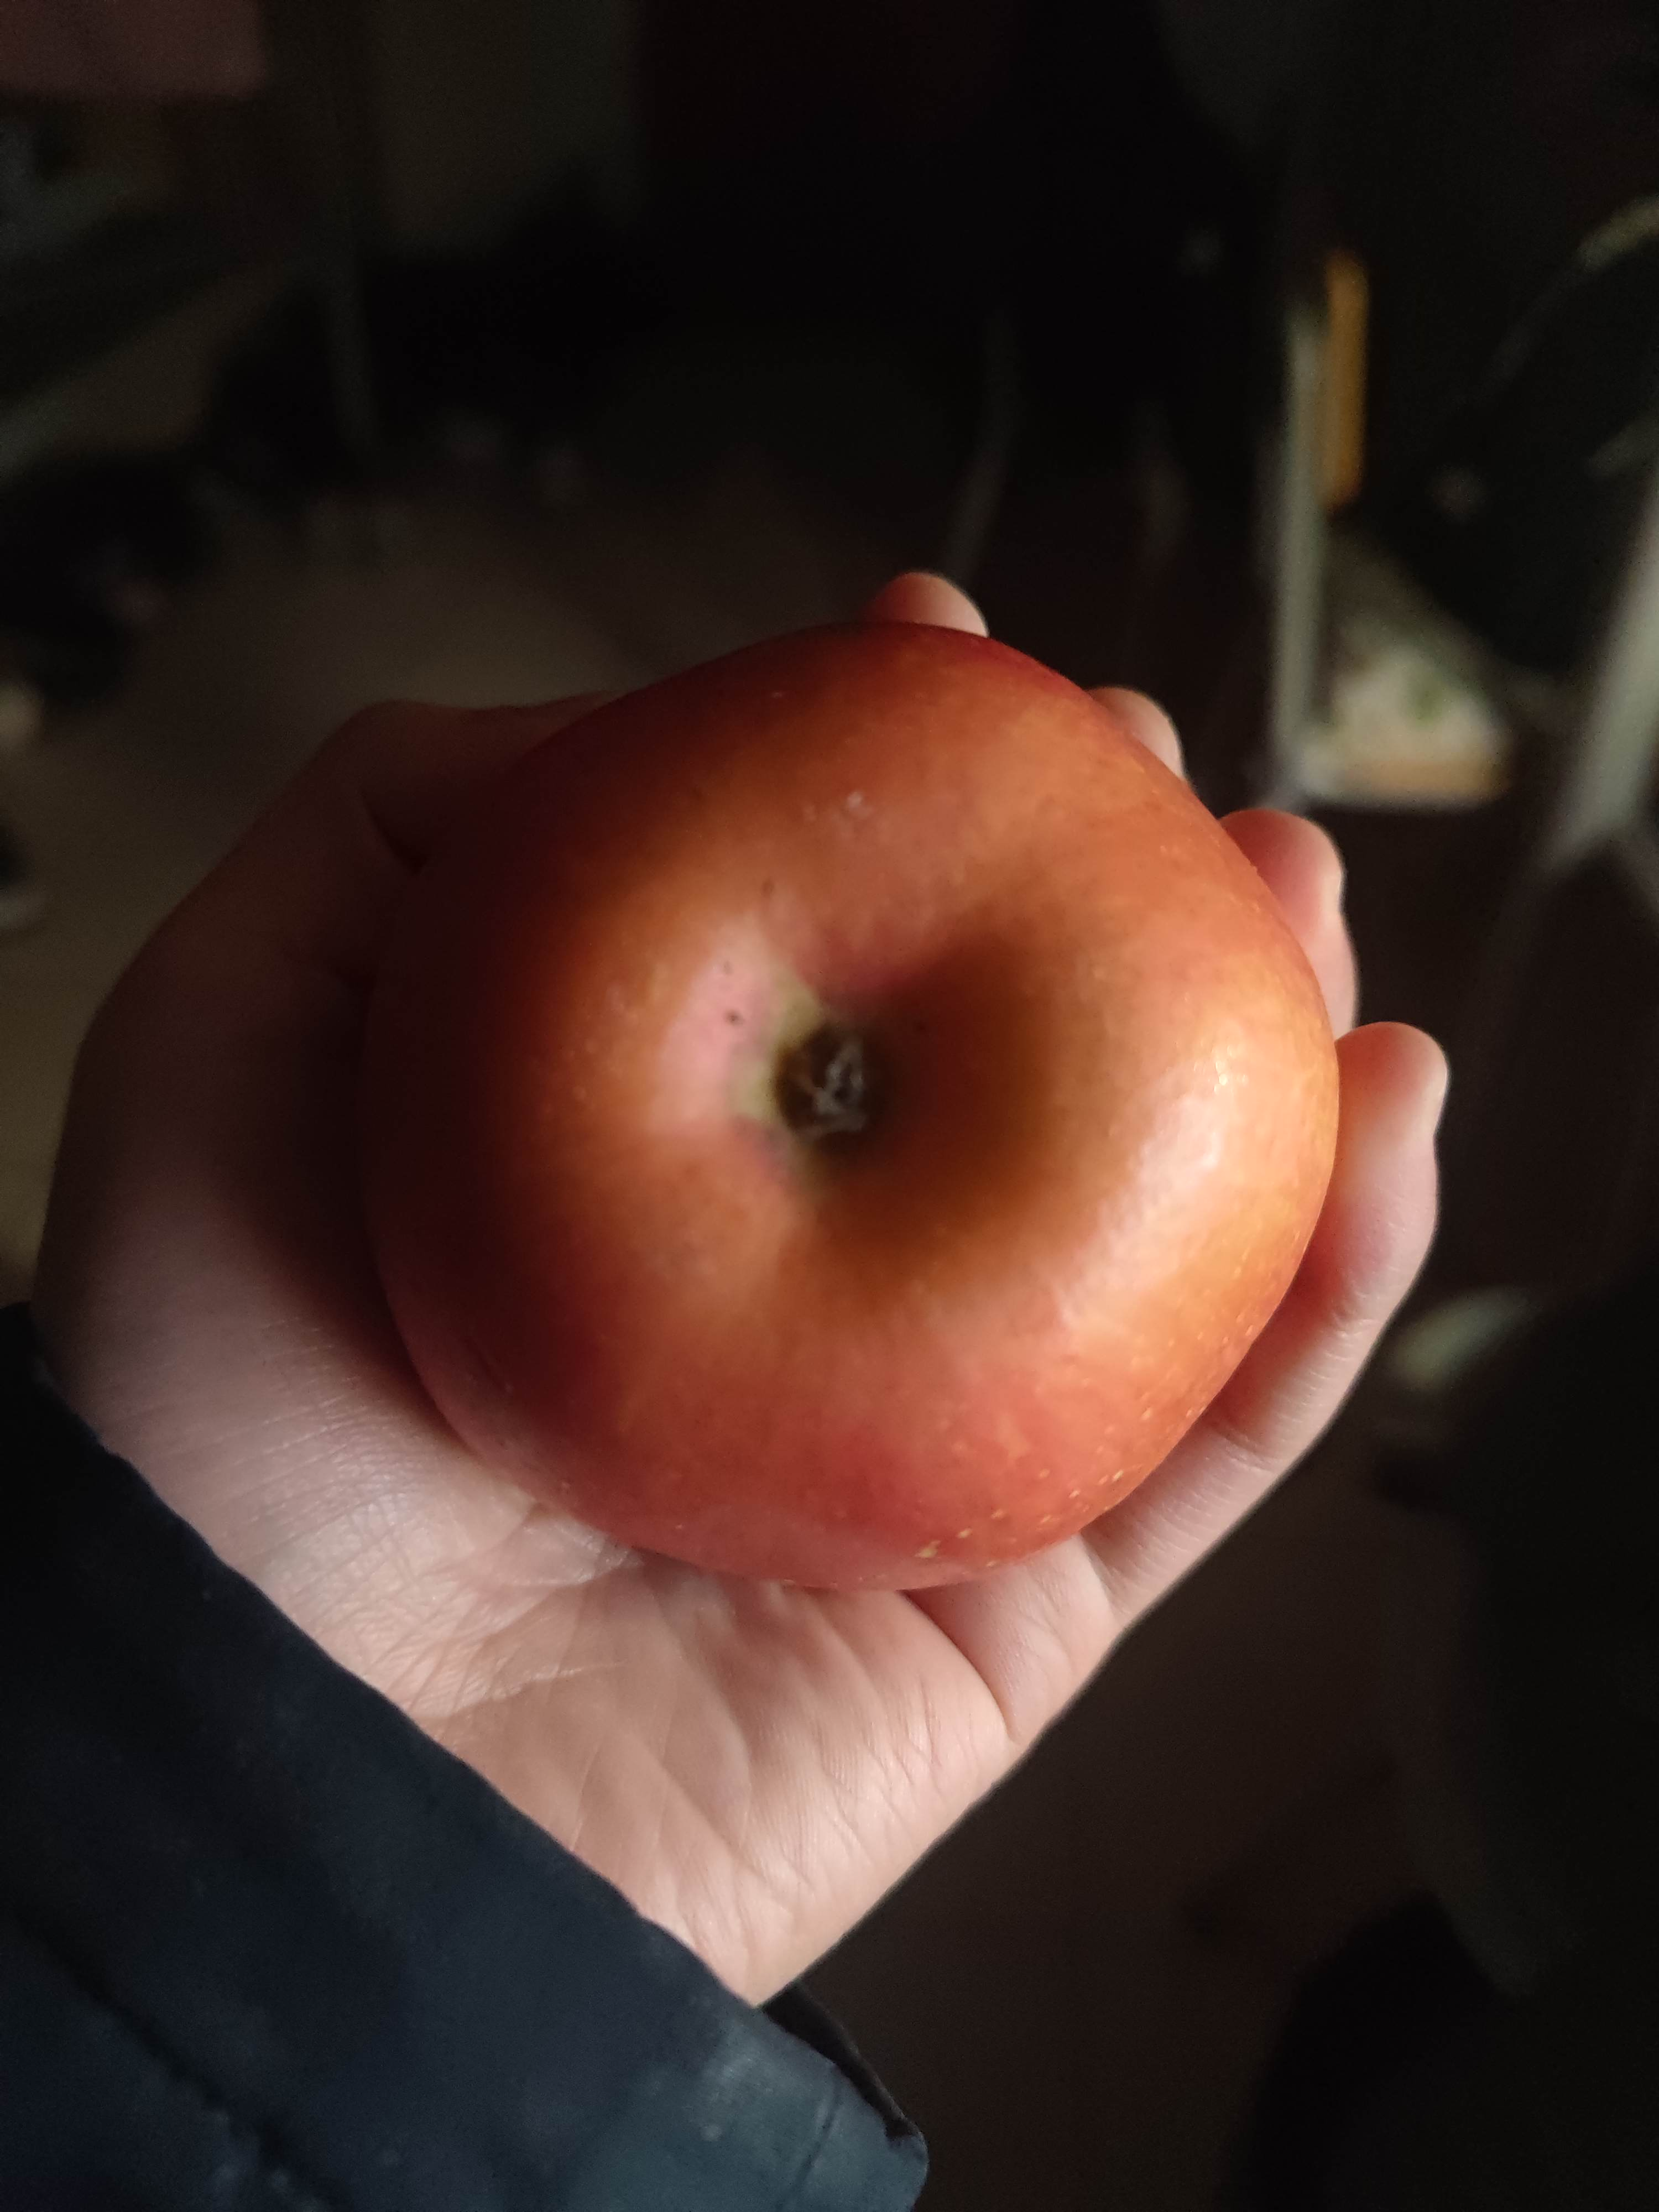apple: (396, 622, 1342, 1587)
